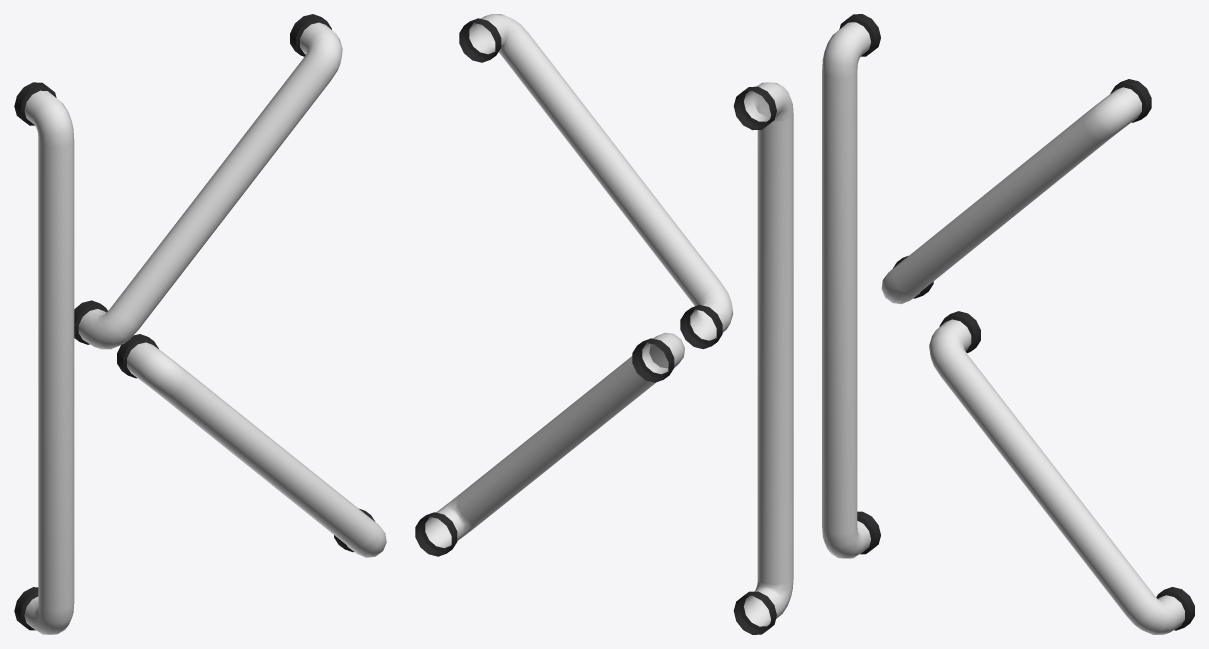
The model's file is LettersNeon01_K.FBX.
3 renders of one model, left to right at view 1: azimuth 30°, elevation 25°; view 2: azimuth 150°, elevation 25°; view 3: azimuth 330°, elevation 25°, orthographic.
Visible parts, largest first — view 1: LettersNeon01_K; view 2: LettersNeon01_K; view 3: LettersNeon01_K.
Boxes of the visible parts, box(x1,y1,x2,y2) form: LettersNeon01_K: box(14, 14, 386, 634); LettersNeon01_K: box(415, 14, 793, 634); LettersNeon01_K: box(822, 14, 1194, 634).
Size of what is drawn, in the model's own units: 0.3443 by 0.5031 by 0.054.
